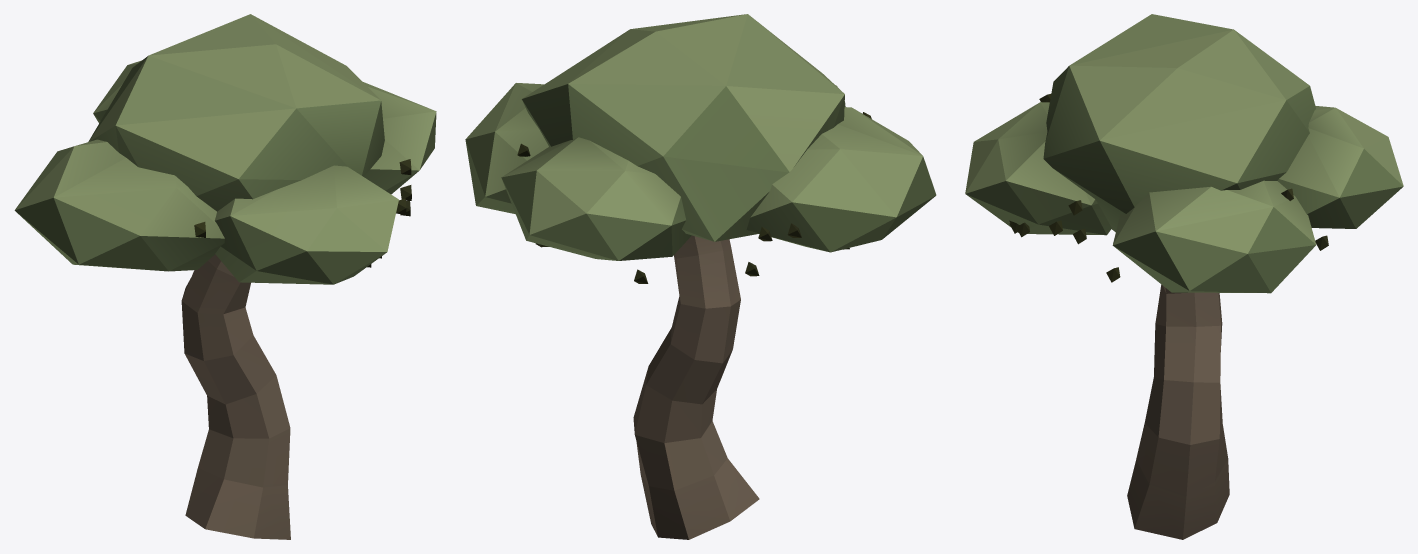
The model's file is olivetree.glb.
3 views of the same model, side by side, from view 1: azimuth 30°, elevation 25°; view 2: azimuth 150°, elevation 25°; view 3: azimuth 270°, elevation 25° (orthographic). The views are drawn at different scales.
Visible parts, largest first — view 1: base; view 2: base; view 3: base.
Part boxes in pixels (left/top/right/bottom): base: left=14, top=14, right=436, bottom=539; base: left=465, top=14, right=936, bottom=539; base: left=965, top=14, right=1403, bottom=539.
Bounding box in the file's own units: 1.04 × 1.16 × 0.9765.
